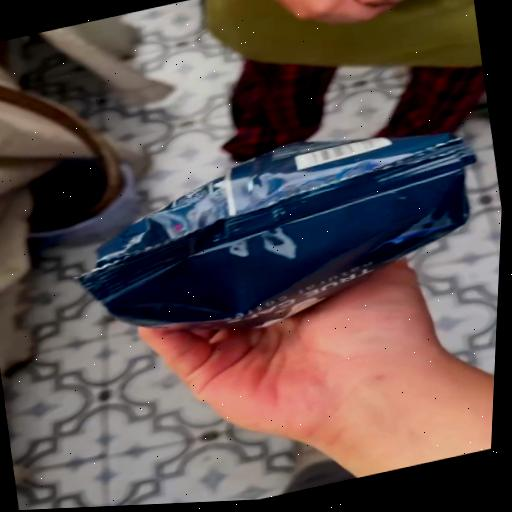cafe_hat: (77, 134, 474, 330)
